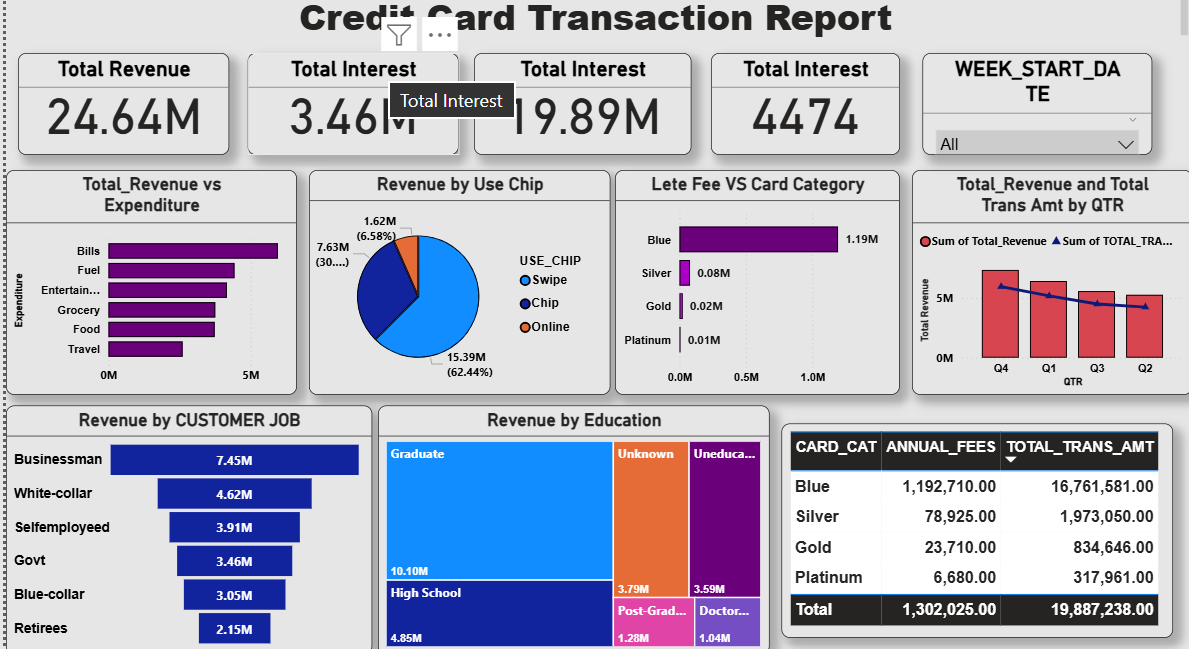

The page's visual inventory and layout, read from the dashboard file:
{"tool":"powerbi","page":{"name":"Page 1","canvas":[1280,720],"ordinal":0},"visuals":[{"type":"card","title":"Total Revenue","fields":{"Values":["Sum(cc_details.Total_Revenue)"]},"box":[13,71.2,228.3,110.1],"z":0},{"type":"textbox","box":[0,0,1280.8,59.9],"z":1000},{"type":"card","title":"Total Interest","fields":{"Values":["Sum(cc_details.INTEREST_EARNED)"]},"box":[260.7,71.2,228.3,110.1],"z":2000},{"type":"card","title":"Total Interest","fields":{"Values":["Sum(cc_details.TOTAL_TRANS_AMT)"]},"box":[505.2,71.2,234.8,110.1],"z":3000},{"type":"card","title":"Total Interest","fields":{"Values":["CountNonNull(cc_details.CLIENT_NUM)"]},"box":[761,71.2,204,110.1],"z":4000},{"type":"barChart","title":"Total_Revenue vs Expenditure","fields":{"Category":["cc_details.EXP_TYPE"],"Y":["Sum(cc_details.Total_Revenue)"]},"box":[0,197.5,314.1,242.9],"z":5000},{"type":"pieChart","title":"Revenue by Use Chip","fields":{"Y":["Sum(cc_details.Total_Revenue)"],"Category":["cc_details.USE_CHIP"]},"box":[327.1,197.5,325.5,242.9],"z":6000},{"type":"barChart","title":"Lete Fee VS Card Category","fields":{"Category":["cc_details.CARD_CATEGORY"],"Y":["Sum(cc_details.ANNUAL_FEES)"]},"box":[657.4,197.5,307.7,242.9],"z":7000},{"type":"lineStackedColumnComboChart","title":" Total_Revenue and Total Trans Amt by QTR","fields":{"Y":["Sum(cc_details.Total_Revenue)"],"Y2":["Sum(cc_details.TOTAL_TRANS_AMT)"],"Category":["cc_details.QTR"]},"box":[978,197.5,302.8,242.9],"z":8000},{"type":"funnel","title":"Revenue by CUSTOMER JOB","fields":{"Category":["Custmer.CUSTOMER_JOB"],"Y":["Sum(cc_details.Total_Revenue)"]},"box":[0,451.8,395.1,268.8],"z":9000},{"type":"treemap","title":"Revenue by Education","fields":{"Group":["Custmer.EDUCATION_LEVEL"],"Values":["Sum(cc_details.Total_Revenue)"]},"box":[401.6,451.8,422.6,268.8],"z":10000},{"type":"tableEx","fields":{"Values":["cc_details.CARD_CATEGORY","Sum(cc_details.ANNUAL_FEES)","Sum(cc_details.TOTAL_TRANS_AMT)"]},"box":[837.1,471.2,422.6,231.5],"z":11000},{"type":"slicer","title":"WEEK_START_DATE","fields":{"Values":["cc_details.WEEK_START_DATE"]},"box":[989.3,71.2,247.7,110.1],"z":12000}]}

Visuals, with their boxes on the page's 1280x720 design canvas (x1, y1, x2, y2). These are canvas units, not pixel positions in the 1189x649 screenshot, which may show the page scaled, cropped or inside an application window:
"Total Revenue" card: Rect(13, 71, 241, 181)
textbox: Rect(0, 0, 1281, 60)
"Total Interest" card: Rect(261, 71, 489, 181)
"Total Interest" card: Rect(505, 71, 740, 181)
"Total Interest" card: Rect(761, 71, 965, 181)
"Total_Revenue vs Expenditure" barChart: Rect(0, 198, 314, 440)
"Revenue by Use Chip" pieChart: Rect(327, 198, 653, 440)
"Lete Fee VS Card Category" barChart: Rect(657, 198, 965, 440)
" Total_Revenue and Total Trans Amt by QTR" lineStackedColumnComboChart: Rect(978, 198, 1281, 440)
"Revenue by CUSTOMER JOB" funnel: Rect(0, 452, 395, 721)
"Revenue by Education" treemap: Rect(402, 452, 824, 721)
tableEx - cc_details.CARD_CATEGORY x Sum(cc_details.ANNUAL_FEES): Rect(837, 471, 1260, 703)
"WEEK_START_DATE" slicer: Rect(989, 71, 1237, 181)
